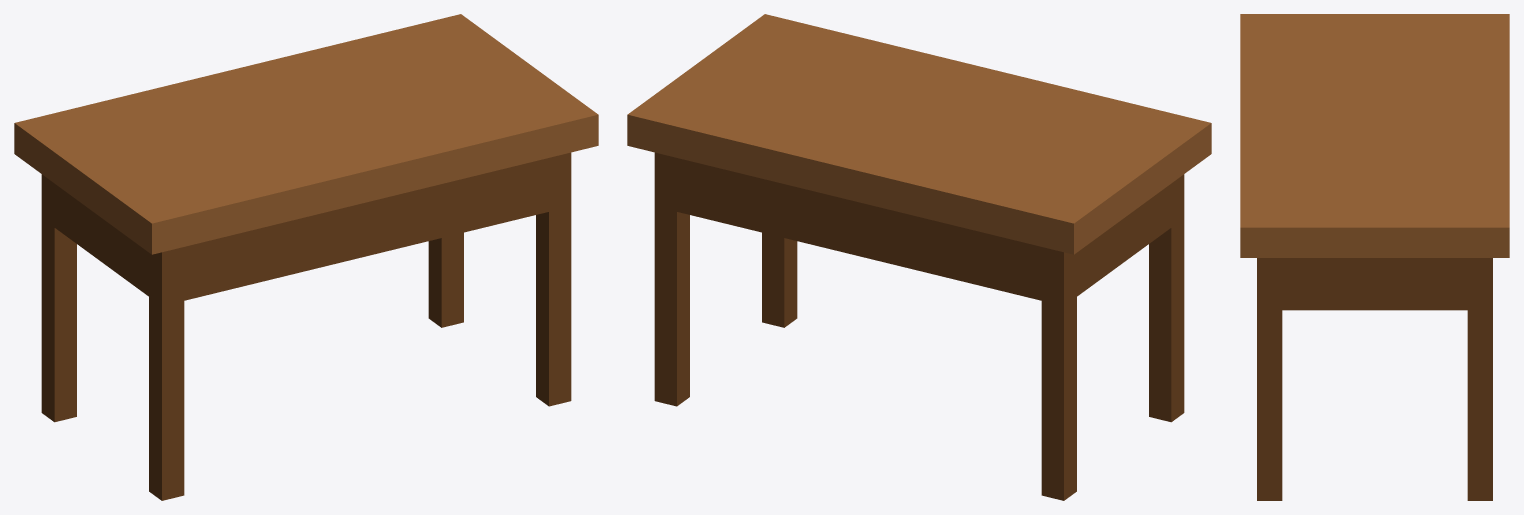
Rendered from th-desk.glb.
3 views of the same model, side by side, from view 1: azimuth 30°, elevation 25°; view 2: azimuth 150°, elevation 25°; view 3: azimuth 270°, elevation 25° (orthographic). The views are drawn at different scales.
Visible parts, largest first — view 1: box-prop; view 2: box-prop; view 3: box-prop.
Boxes of the visible parts, x1=… form: box-prop: x1=14, y1=14, x2=598, y2=500; box-prop: x1=627, y1=14, x2=1211, y2=500; box-prop: x1=1240, y1=14, x2=1509, y2=500.
Size of the model in its own units: 1.2 by 0.74 by 0.64.
